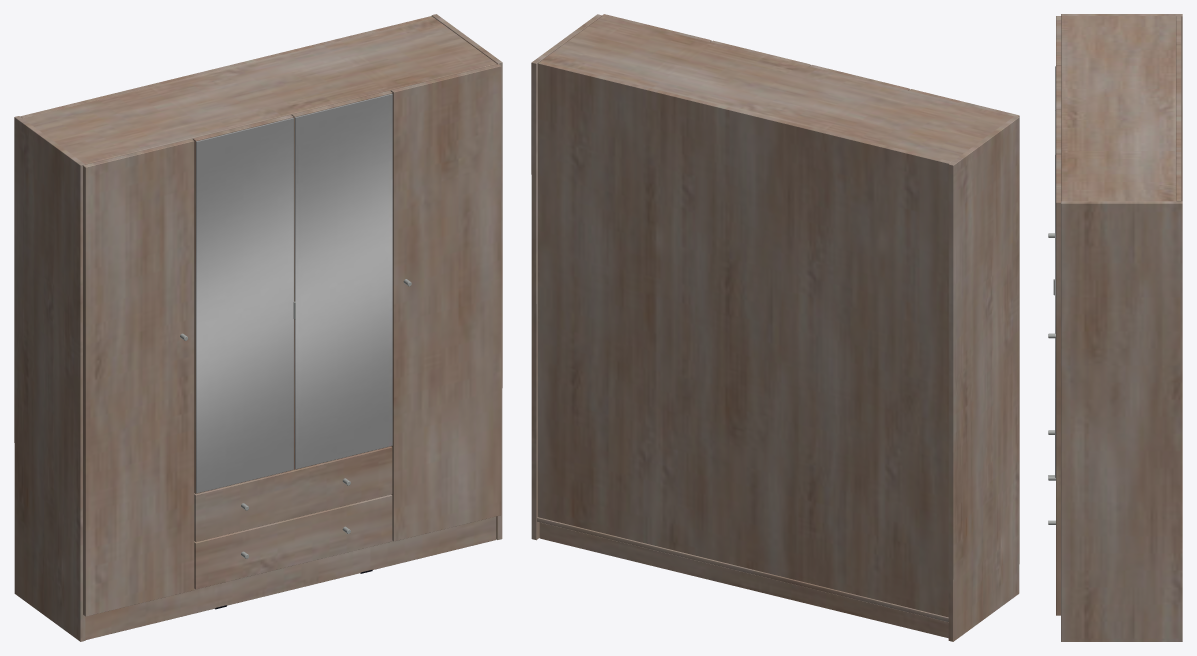
3 renders of one model, left to right at view 1: azimuth 30°, elevation 25°; view 2: azimuth 150°, elevation 25°; view 3: azimuth 270°, elevation 25°, orthographic. The views are drawn at different scales.
Visible parts, largest first — view 1: RootNode; view 2: RootNode; view 3: RootNode.
Boxes of the visible parts, box(x1,y1,x2,y2) form: RootNode: box(14, 14, 502, 641); RootNode: box(531, 14, 1019, 641); RootNode: box(1048, 14, 1182, 641).
Bounding box in the file's own units: 2 × 2.16 × 0.5981.
Materials: 1 (1 with a texture image).
